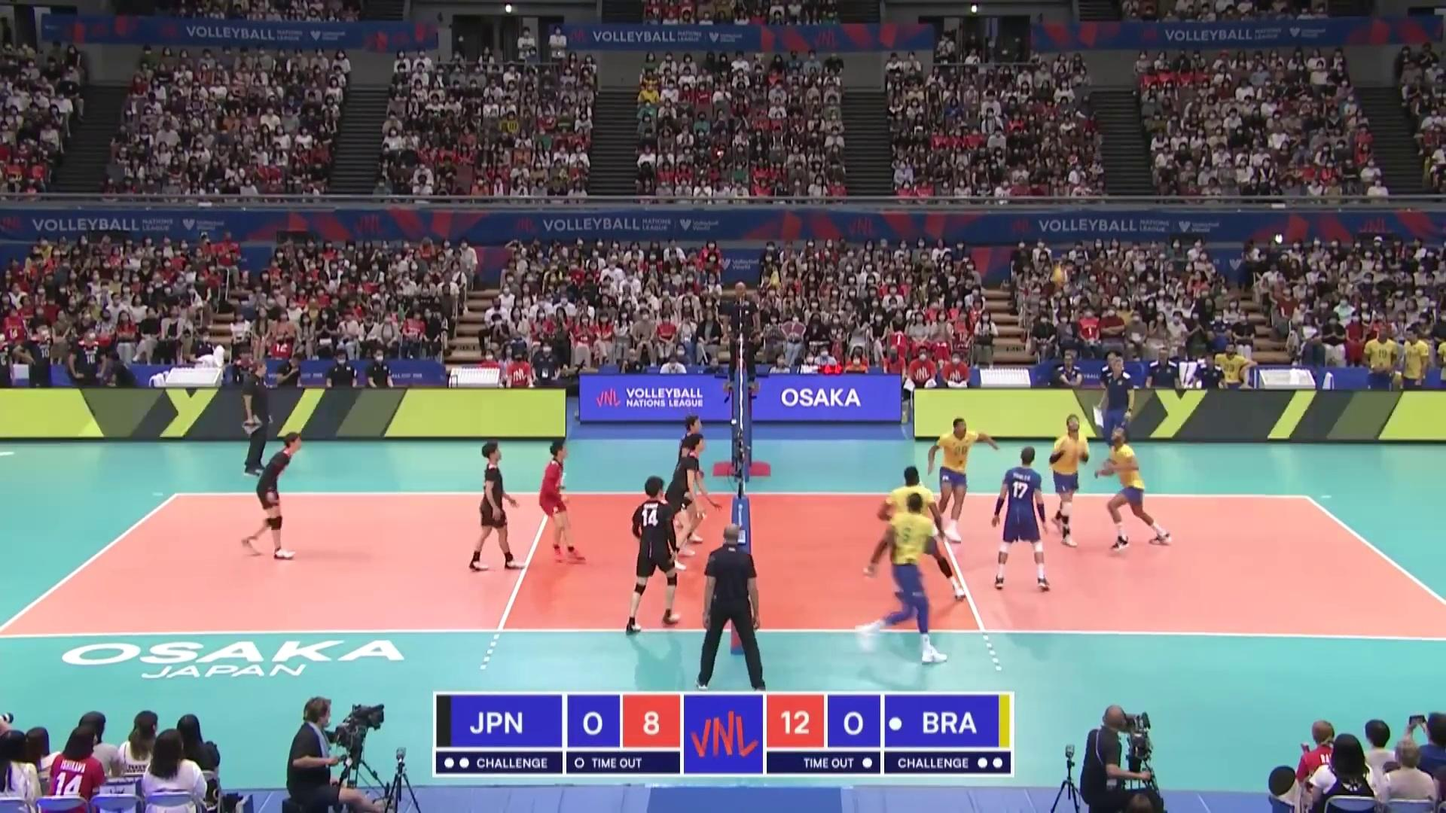player: (860, 492, 962, 671), (864, 466, 966, 600), (622, 476, 681, 634), (1099, 429, 1174, 549), (992, 448, 1051, 596), (240, 433, 305, 559), (928, 418, 995, 540), (464, 441, 518, 573), (662, 434, 708, 570), (539, 439, 588, 563), (1046, 414, 1091, 549), (677, 416, 717, 553)
refree: (701, 527, 761, 690), (721, 281, 759, 395)
